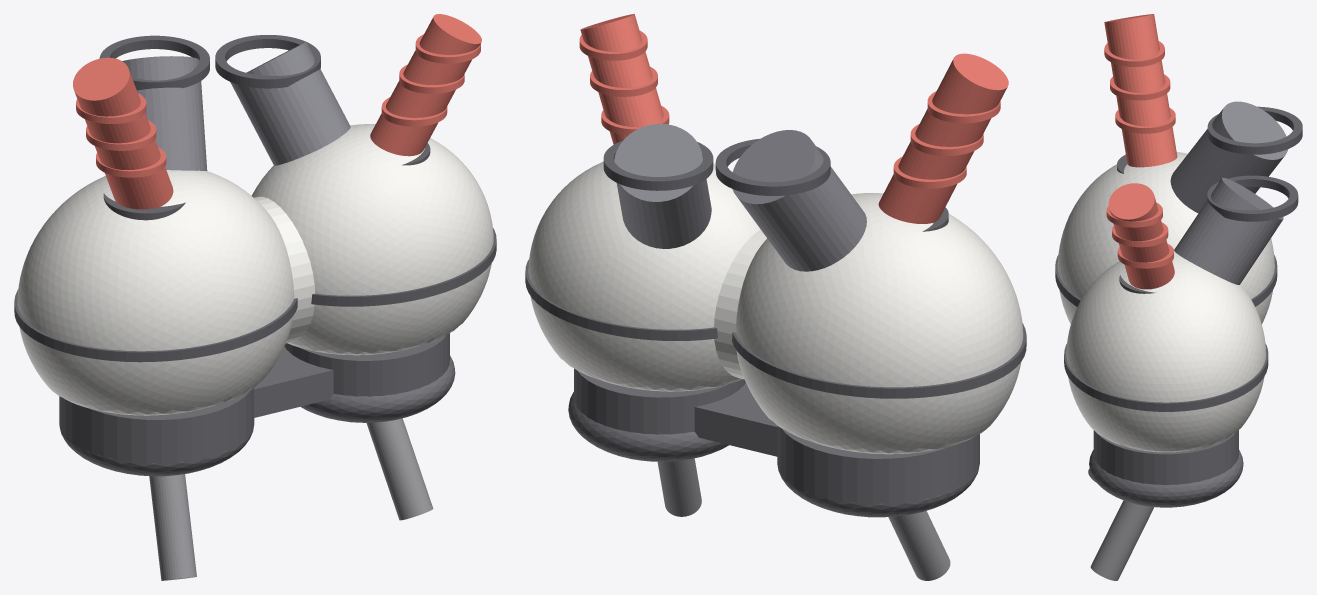
The model's file is heart.glb.
3 renders of one model, left to right at view 1: azimuth 30°, elevation 25°; view 2: azimuth 150°, elevation 25°; view 3: azimuth 270°, elevation 25°, orthographic. The views are drawn at different scales.
Visible parts, largest first — view 1: geometry_0, geometry_1, geometry_19, geometry_16, geometry_7, geometry_8, geometry_15, geometry_20, geometry_24, geometry_25, geometry_23, geometry_3 (+13 smaller); view 2: geometry_0, geometry_1, geometry_15, geometry_19, geometry_7, geometry_16, geometry_20, geometry_8, geometry_23, geometry_21, geometry_3, geometry_2 (+11 smaller); view 3: geometry_1, geometry_0, geometry_7, geometry_15, geometry_16, geometry_20, geometry_8, geometry_23, geometry_25, geometry_4, geometry_18, geometry_17 (+7 smaller).
Part boxes in pixels (x1,y1,x2,y2): geometry_0: [17, 170, 294, 415]; geometry_1: [251, 124, 493, 355]; geometry_19: [59, 388, 254, 464]; geometry_16: [230, 42, 350, 165]; geometry_7: [73, 57, 173, 209]; geometry_8: [370, 14, 481, 156]; geometry_15: [122, 56, 207, 170]; geometry_20: [284, 333, 449, 396]; geometry_24: [149, 474, 196, 580]; geometry_25: [366, 418, 433, 520]; geometry_23: [300, 355, 455, 422]; geometry_3: [14, 289, 297, 362]; geometry_0: [735, 193, 1023, 454]; geometry_1: [528, 161, 760, 391]; geometry_15: [732, 130, 866, 271]; geometry_19: [777, 426, 979, 504]; geometry_7: [878, 53, 1008, 223]; geometry_16: [614, 124, 711, 248]; geometry_20: [574, 368, 745, 434]; geometry_8: [580, 14, 663, 144]; geometry_23: [568, 392, 728, 461]; geometry_21: [694, 383, 777, 456]; geometry_3: [732, 323, 1026, 398]; geometry_2: [714, 230, 766, 379]; geometry_1: [1066, 249, 1266, 452]; geometry_0: [1057, 152, 1274, 324]; geometry_7: [1104, 14, 1177, 167]; geometry_15: [1170, 101, 1288, 213]; geometry_16: [1174, 177, 1283, 284]; geometry_20: [1093, 430, 1238, 485]; geometry_8: [1108, 183, 1174, 289]; geometry_23: [1089, 450, 1243, 507]; geometry_25: [1090, 500, 1154, 580]; geometry_4: [1064, 344, 1268, 411]; geometry_18: [1207, 175, 1298, 221]; geometry_17: [1207, 106, 1302, 154].
Bounding box in the file's own units: 3.64 × 4.01 × 2.
